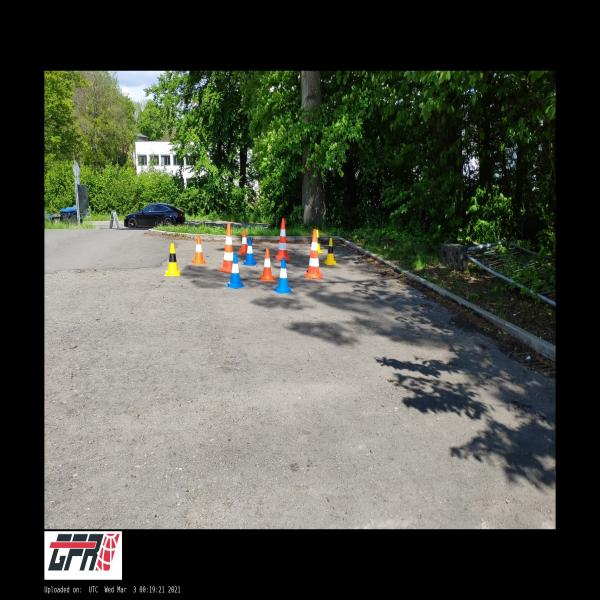blue_cone: (224, 252, 246, 290), (274, 258, 293, 294), (242, 238, 257, 266)
large_orange_cone: (304, 229, 322, 279), (218, 223, 233, 273), (275, 218, 290, 260)
orange_cone: (260, 248, 274, 281), (192, 235, 205, 264), (238, 230, 247, 254)
yellow_cone: (164, 243, 181, 276), (323, 238, 338, 265), (316, 229, 324, 254)
